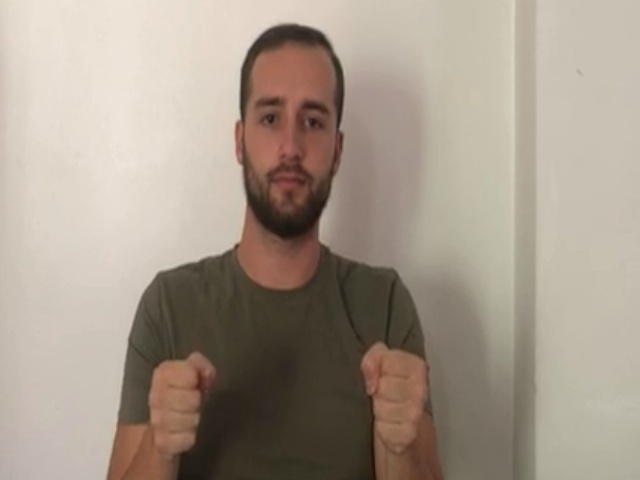Sili: (144, 339, 431, 459)
